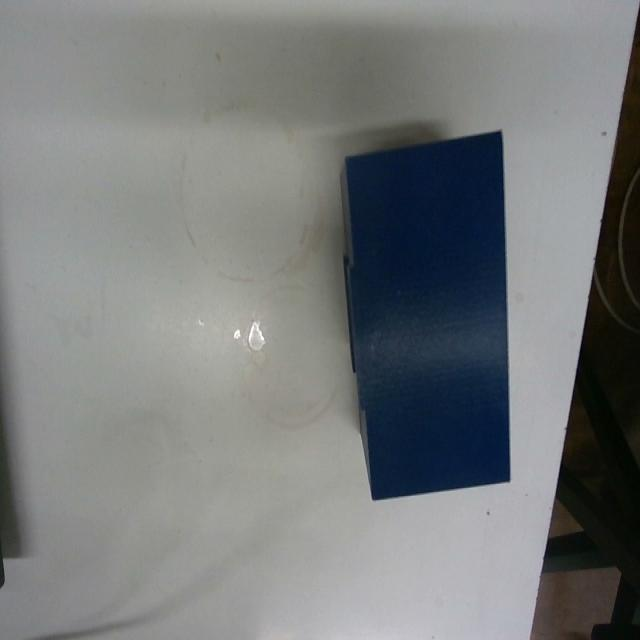Blue Cuboid: (337, 127, 513, 501)
